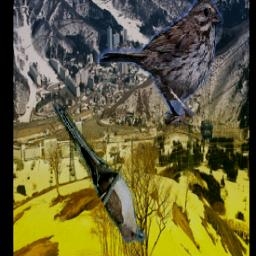Cuckoo: (52, 97, 148, 245)
Sparrow: (97, 0, 224, 126)
